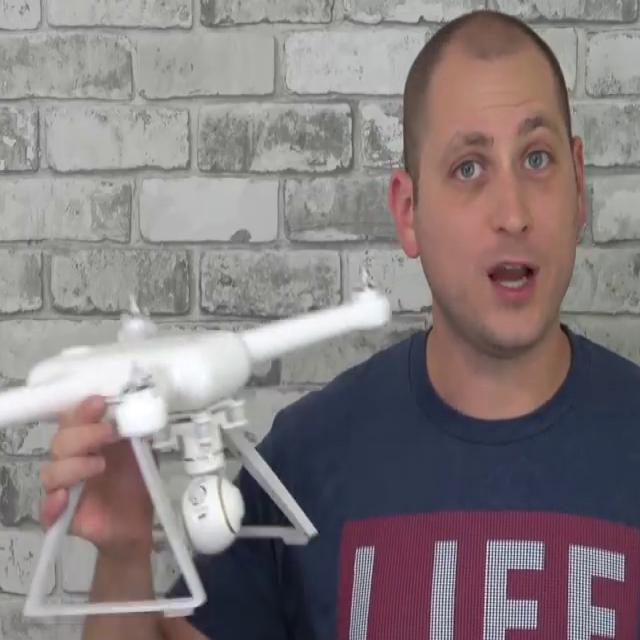drone: (0, 272, 398, 468)
